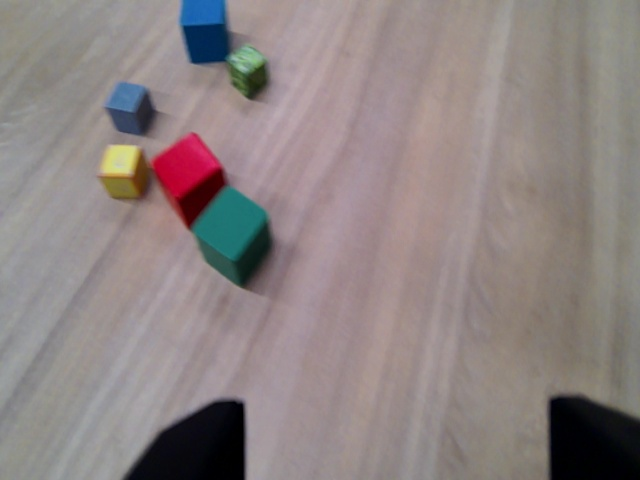grass: (219, 43, 275, 104)
lucky: (93, 142, 153, 202)
stone: (101, 77, 158, 139)
